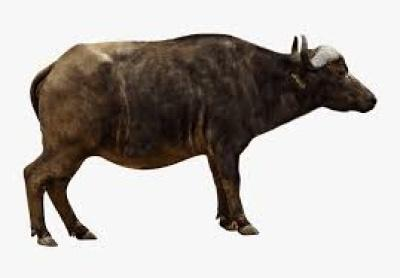buffalo: (22, 34, 379, 248)
